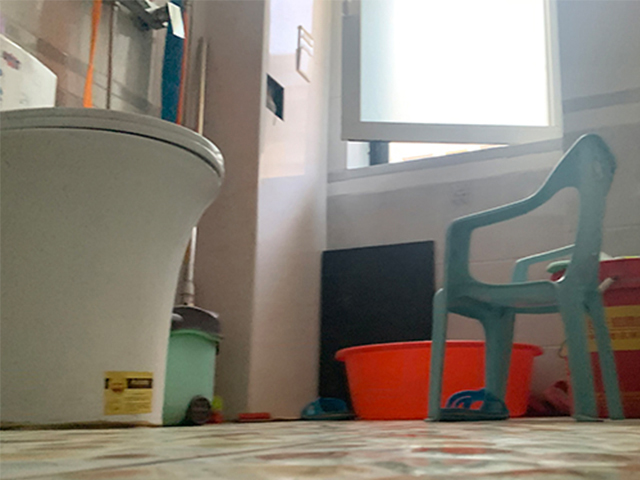closestool: (1, 32, 225, 428)
slippers: (436, 388, 511, 423), (300, 395, 359, 422)
stool: (424, 133, 626, 422)
